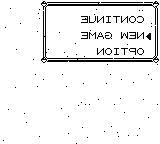seleccionado: (78, 30, 153, 42)
texto: (41, 1, 160, 63)
